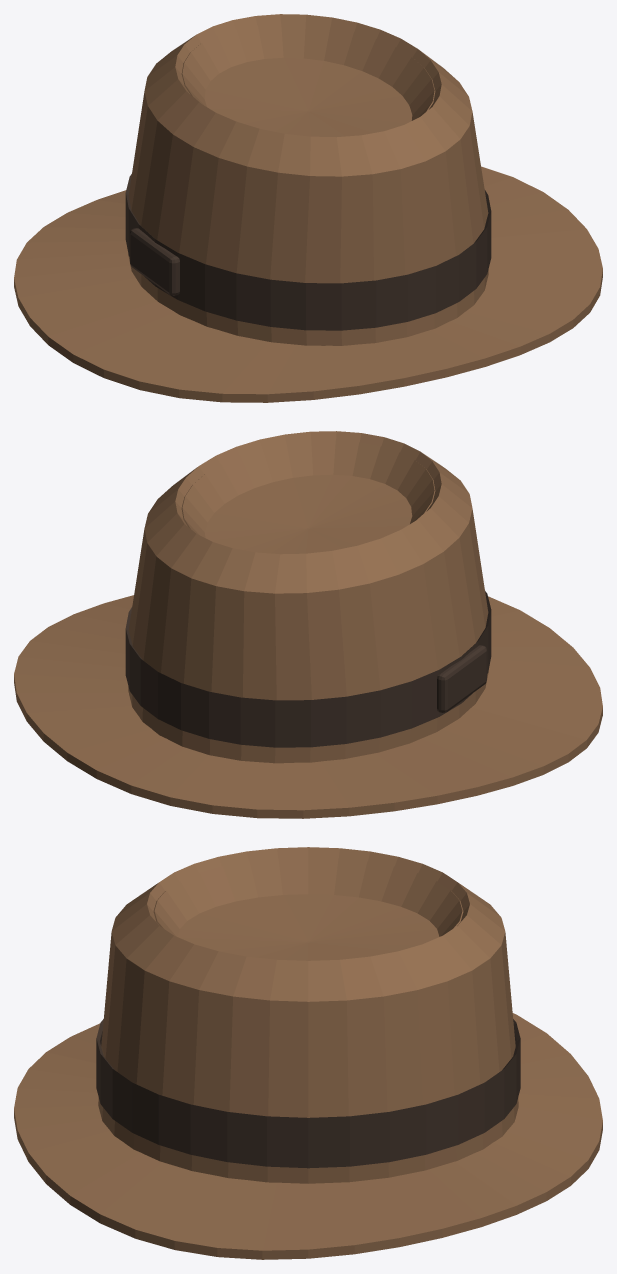
File: hat_fedora.glb
3 renders of one model, top to bottom at view 1: azimuth 30°, elevation 25°; view 2: azimuth 150°, elevation 25°; view 3: azimuth 270°, elevation 25°, orthographic. The views are drawn at different scales.
Visible parts, largest first — view 1: Fedora_Dented_Crown, Fedora_Brim, Fedora_Ribbon, Fedora_Ribbon_Bow; view 2: Fedora_Dented_Crown, Fedora_Brim, Fedora_Ribbon, Fedora_Ribbon_Bow; view 3: Fedora_Dented_Crown, Fedora_Brim, Fedora_Ribbon.
Part boxes in pixels (x1=…): Fedora_Dented_Crown: x1=128, y1=14, x2=488, y2=345; Fedora_Brim: x1=14, y1=166, x2=602, y2=402; Fedora_Ribbon: x1=125, y1=174, x2=491, y2=330; Fedora_Ribbon_Bow: x1=130, y1=228, x2=179, y2=295; Fedora_Dented_Crown: x1=128, y1=431, x2=488, y2=763; Fedora_Brim: x1=14, y1=595, x2=602, y2=818; Fedora_Ribbon: x1=125, y1=591, x2=491, y2=747; Fedora_Ribbon_Bow: x1=437, y1=645, x2=486, y2=712; Fedora_Dented_Crown: x1=98, y1=847, x2=518, y2=1183; Fedora_Brim: x1=14, y1=1013, x2=602, y2=1259; Fedora_Ribbon: x1=96, y1=1019, x2=520, y2=1168.
Size of the model in its own units: 0.38 by 0.148 by 0.35.
